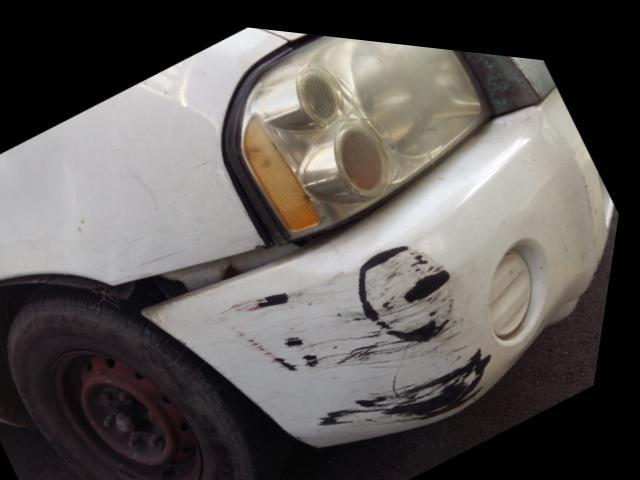dislocated part: (123, 154, 442, 318)
scratch: (223, 229, 505, 427)
